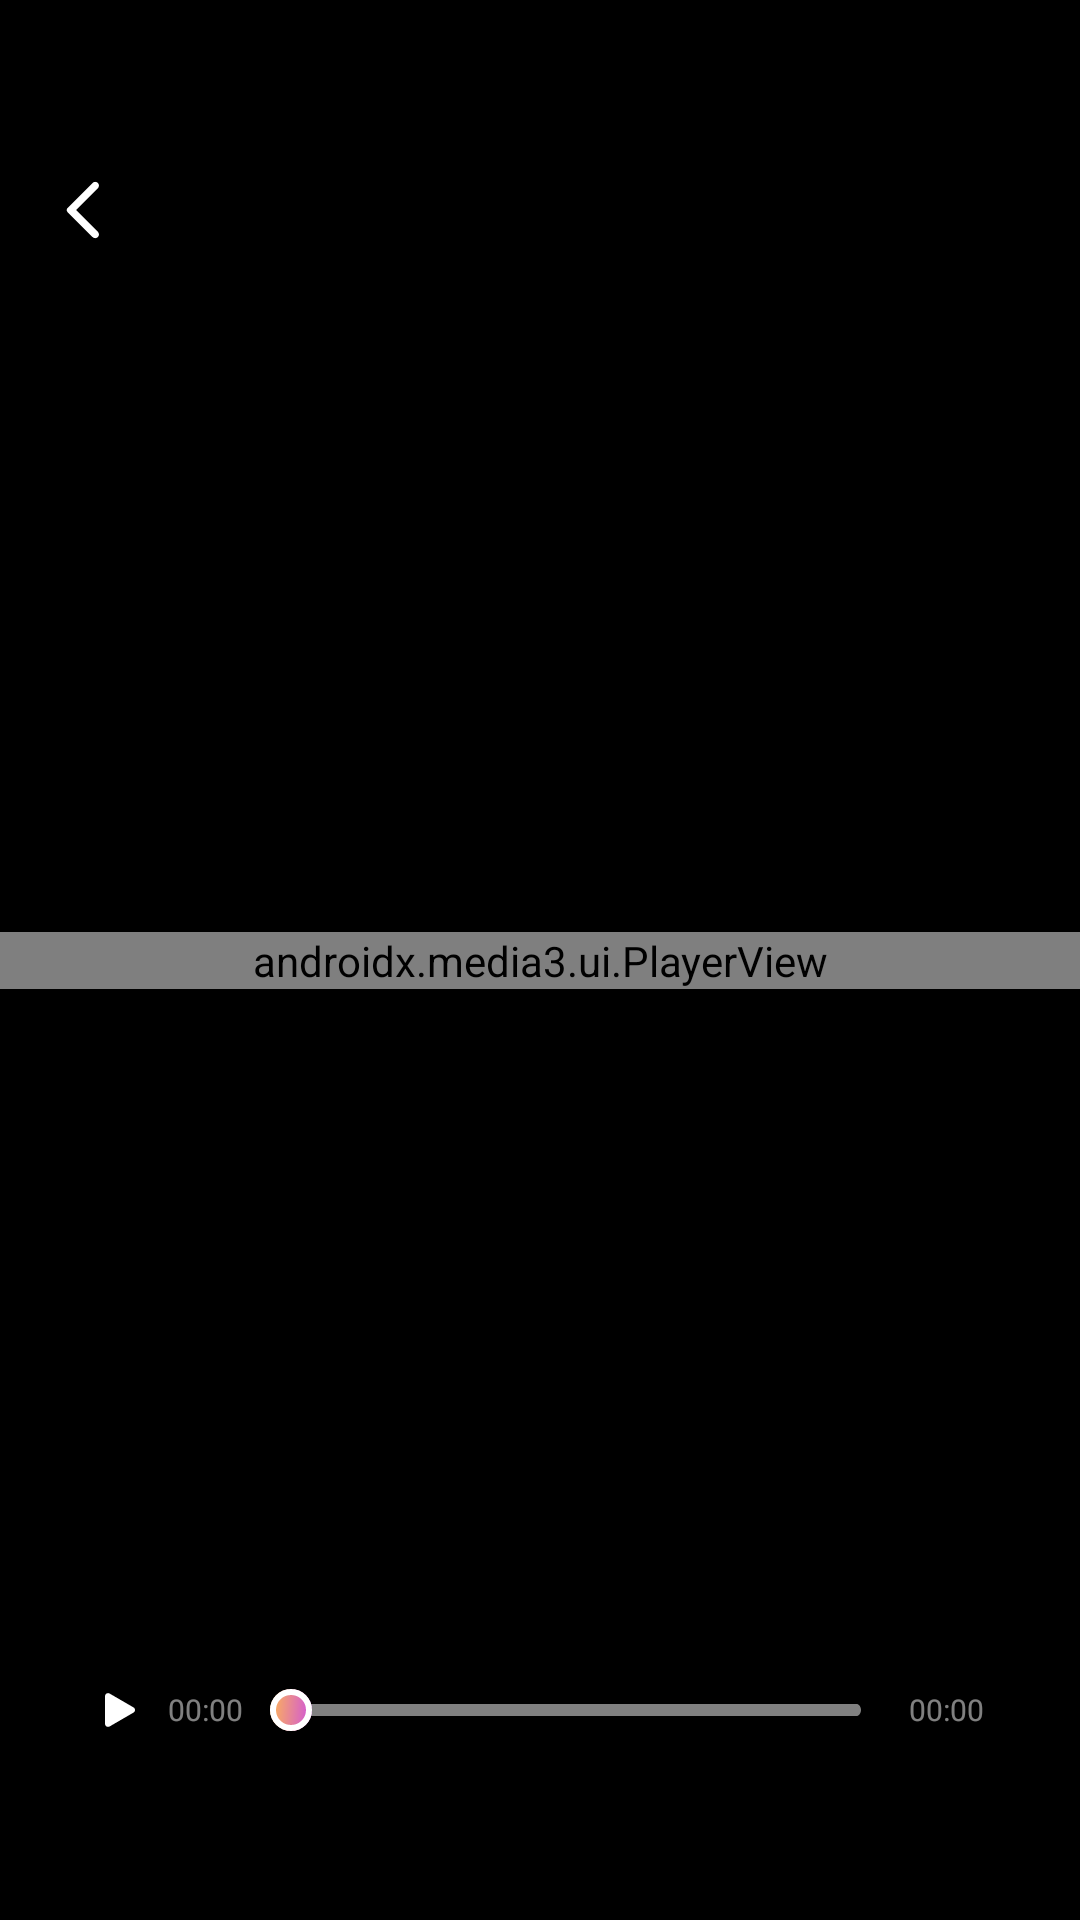

Locate icon controls on the screen. Image size 1080 × 1920, boxes as box(x1, y1, x2, y2).
back: box(66, 182, 99, 239)
